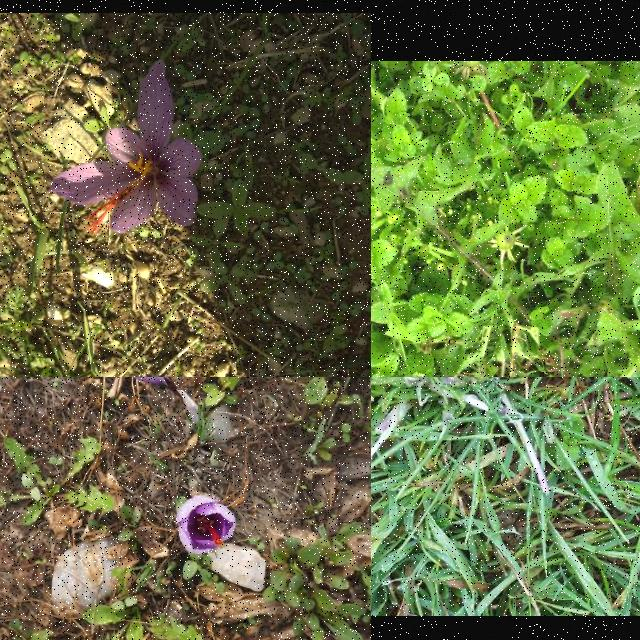flower: (48, 58, 204, 232), (175, 495, 237, 555), (101, 377, 177, 392)
